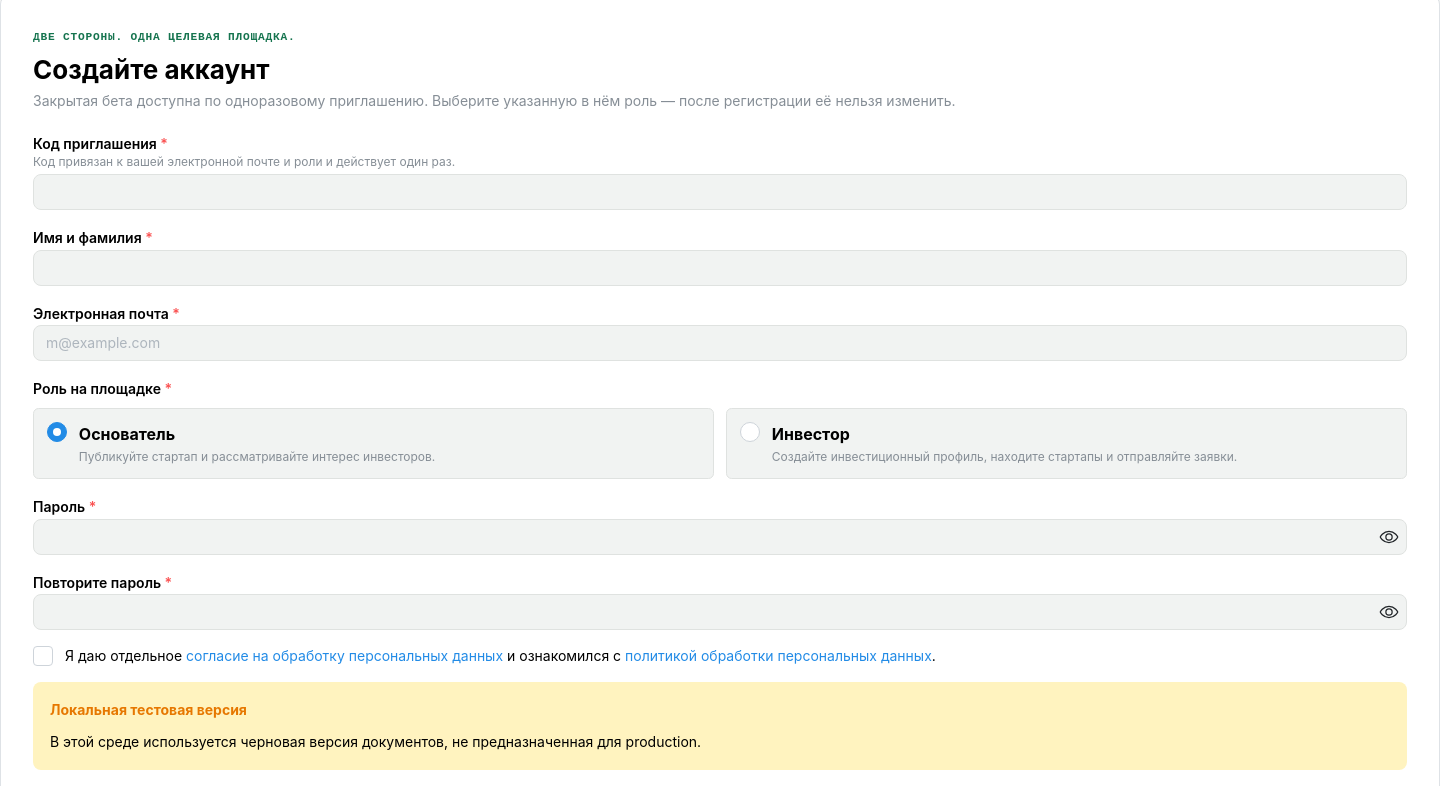
authentication forms › submits the selected marketplace role and exposes field errors
In the field labelled "Код приглашения": (720, 192) top-left (33, 174), bottom-right (1407, 210), type "AbCdEfGhIjKlMnOpQrStUvWxYz012345"
In the field labelled "Имя и фамилия": (720, 268) top-left (33, 250), bottom-right (1407, 286), type "Sam Investor"
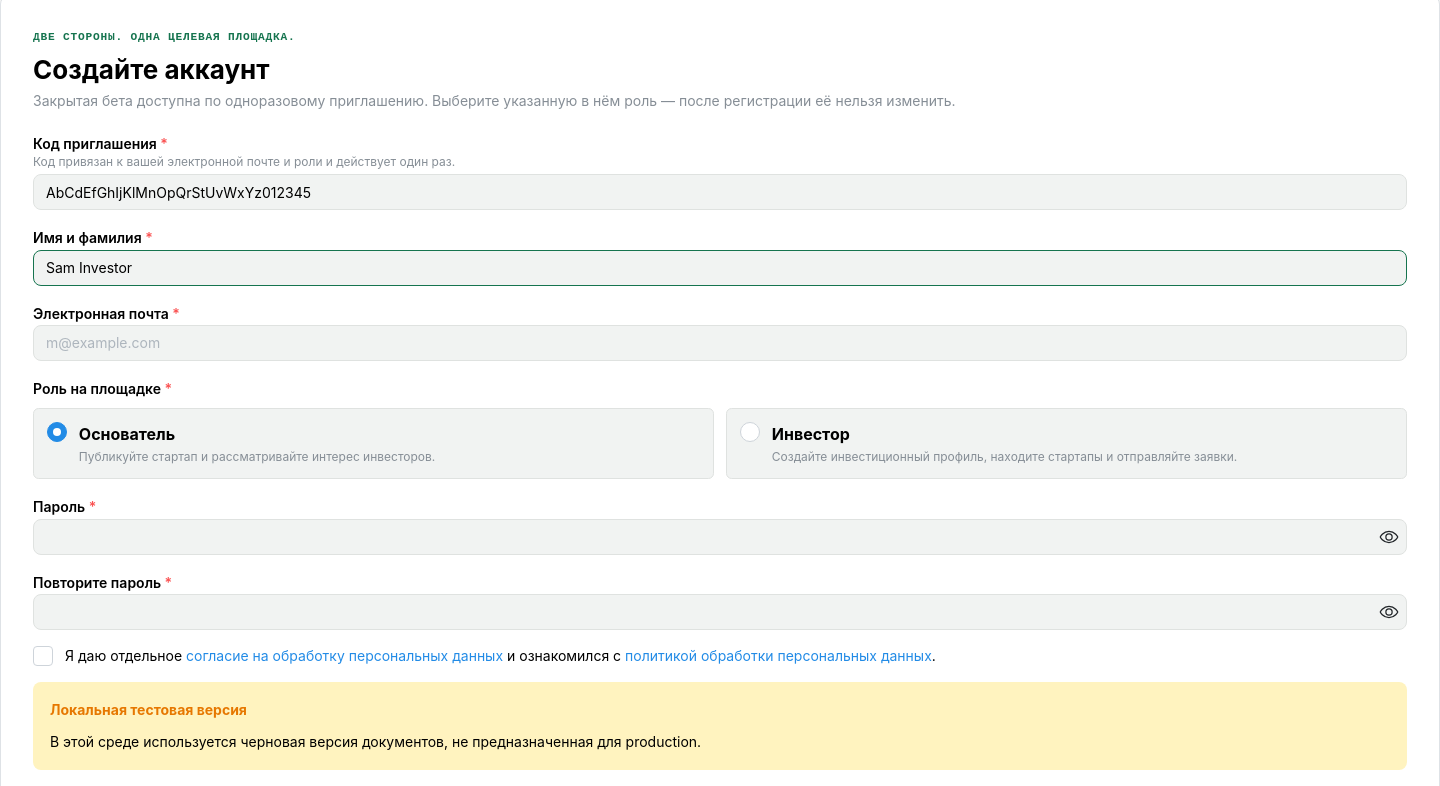
In the field labelled "Электронная почта": (720, 343) top-left (33, 325), bottom-right (1407, 361), type "investor@example.test"
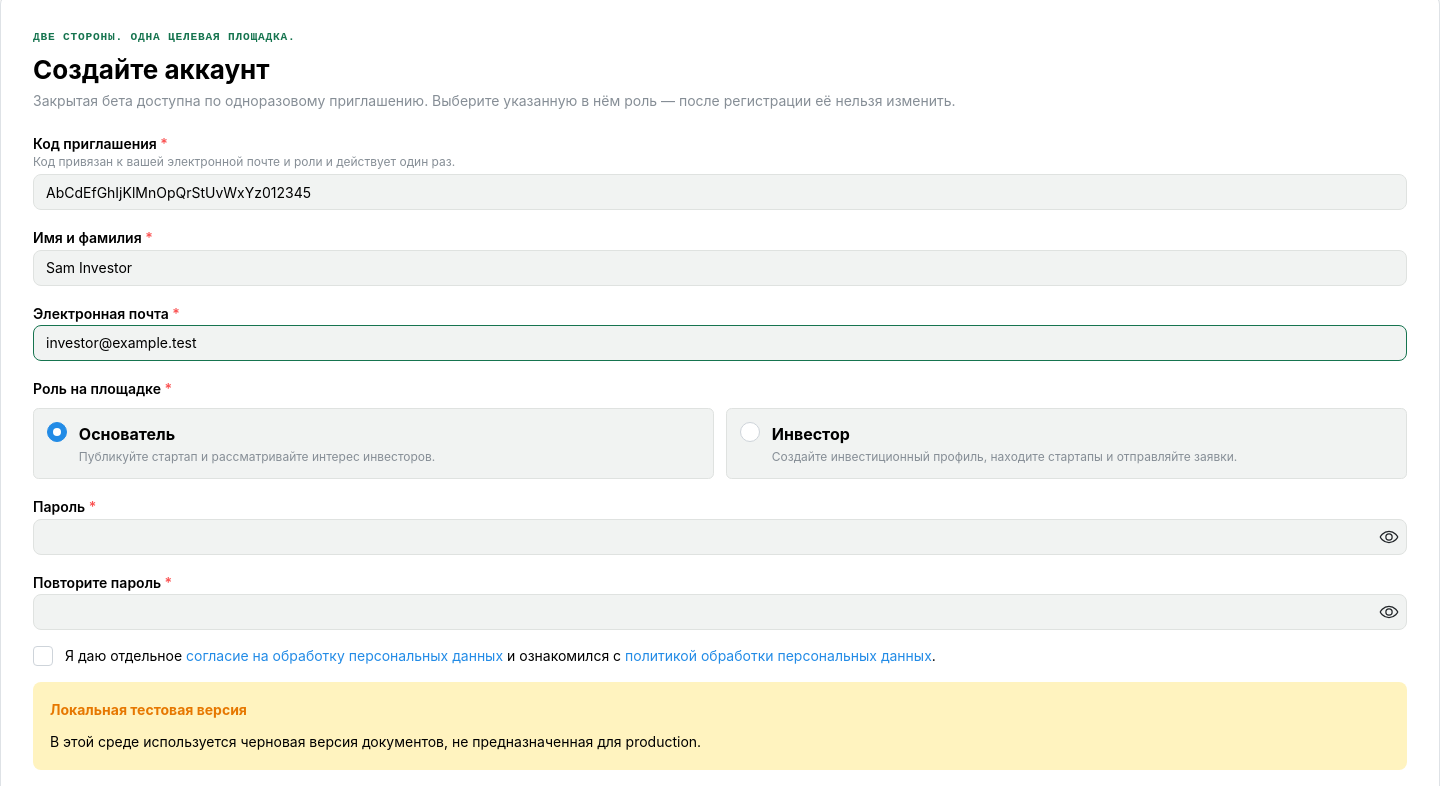
Click the radio button labelled "Инвестор": (750, 432) top-left (740, 422), bottom-right (760, 442)
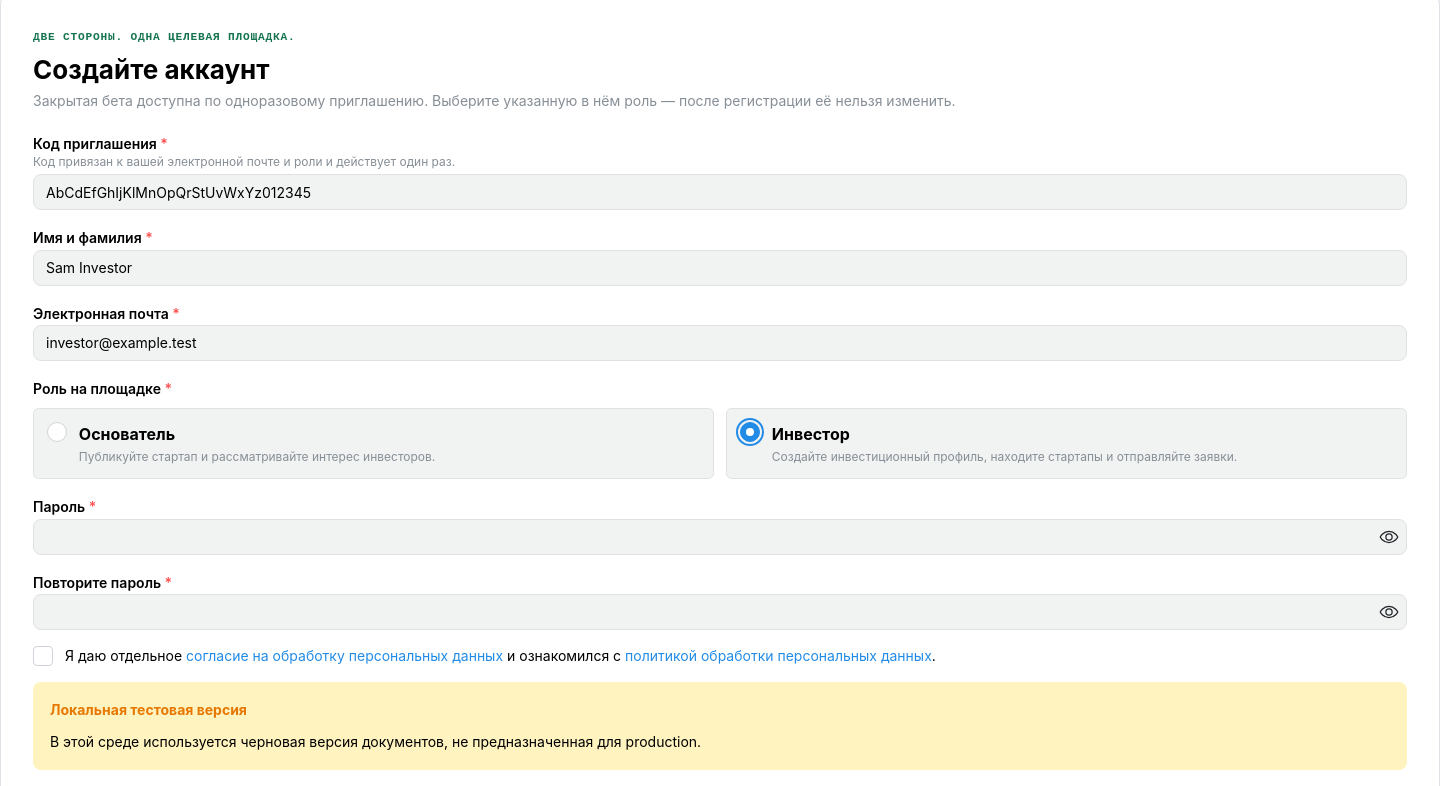
In the password field labelled "Пароль *": (720, 537) top-left (34, 520), bottom-right (1406, 554), type "investor-password"
In the password field labelled "Повторите пароль *": (720, 612) top-left (34, 595), bottom-right (1406, 629), type "different-password"
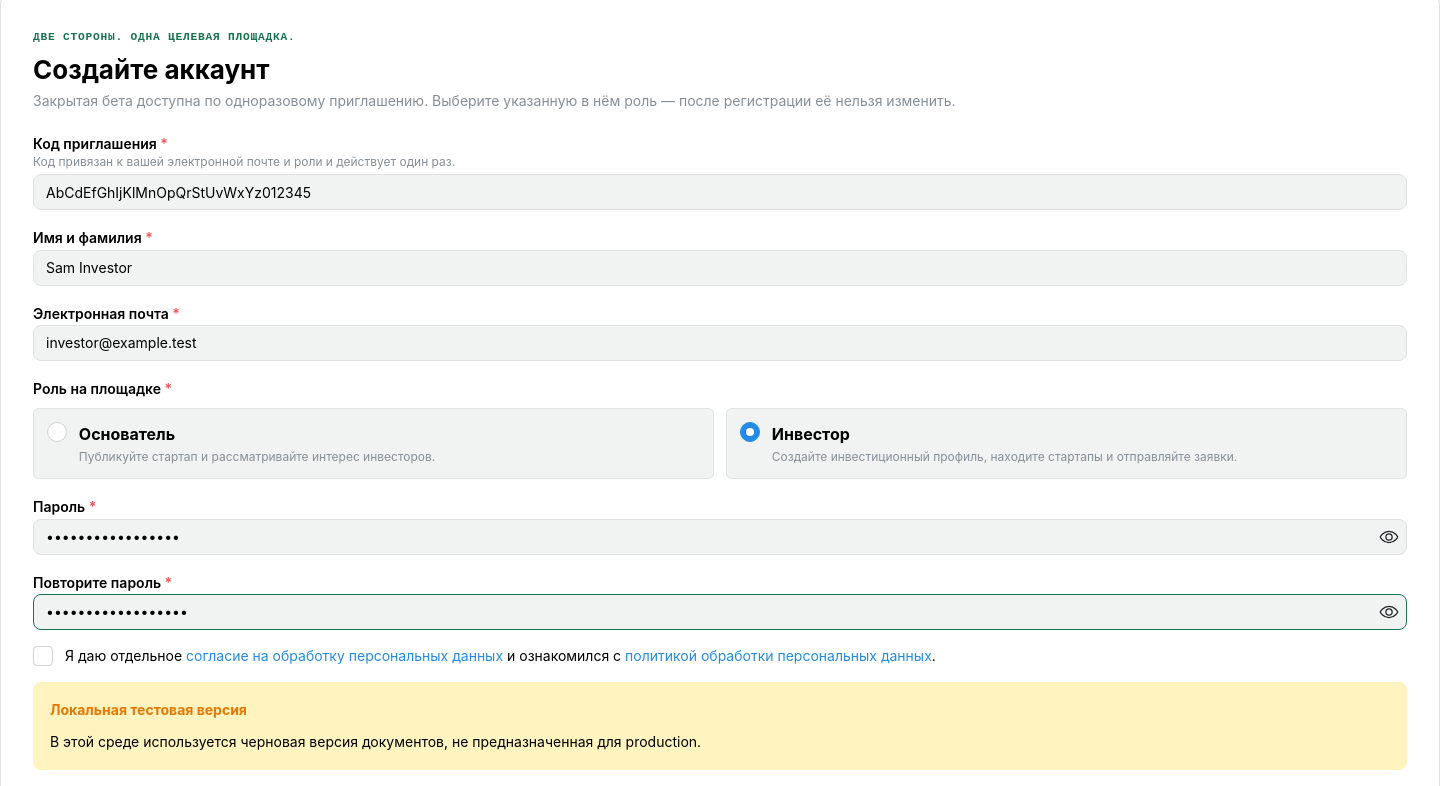
Click the checkbox labelled "Я даю отдельное согласие": (43, 656) top-left (33, 646), bottom-right (53, 666)
(page scrolled)
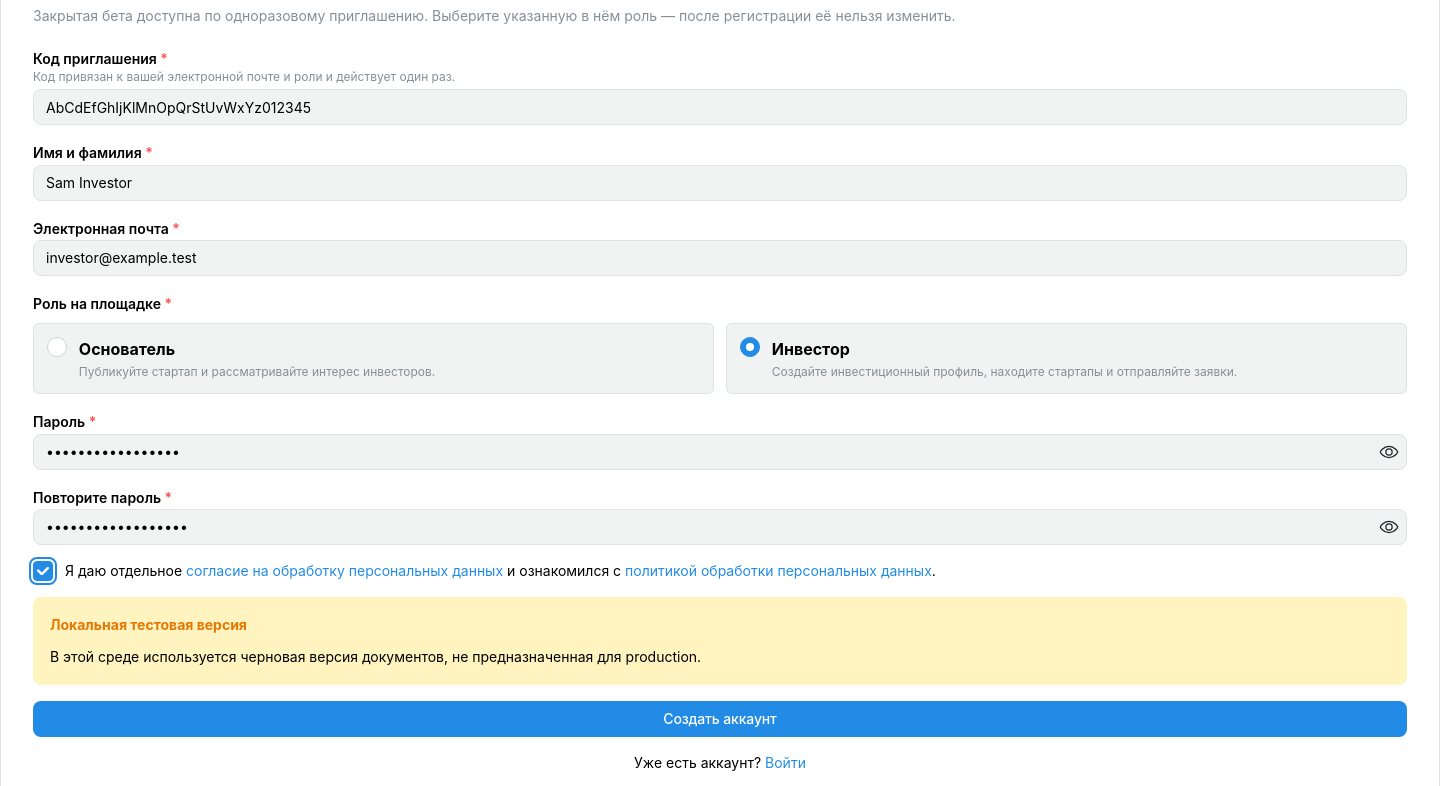
Click the button "Создать аккаунт": (720, 718) top-left (33, 700), bottom-right (1407, 736)
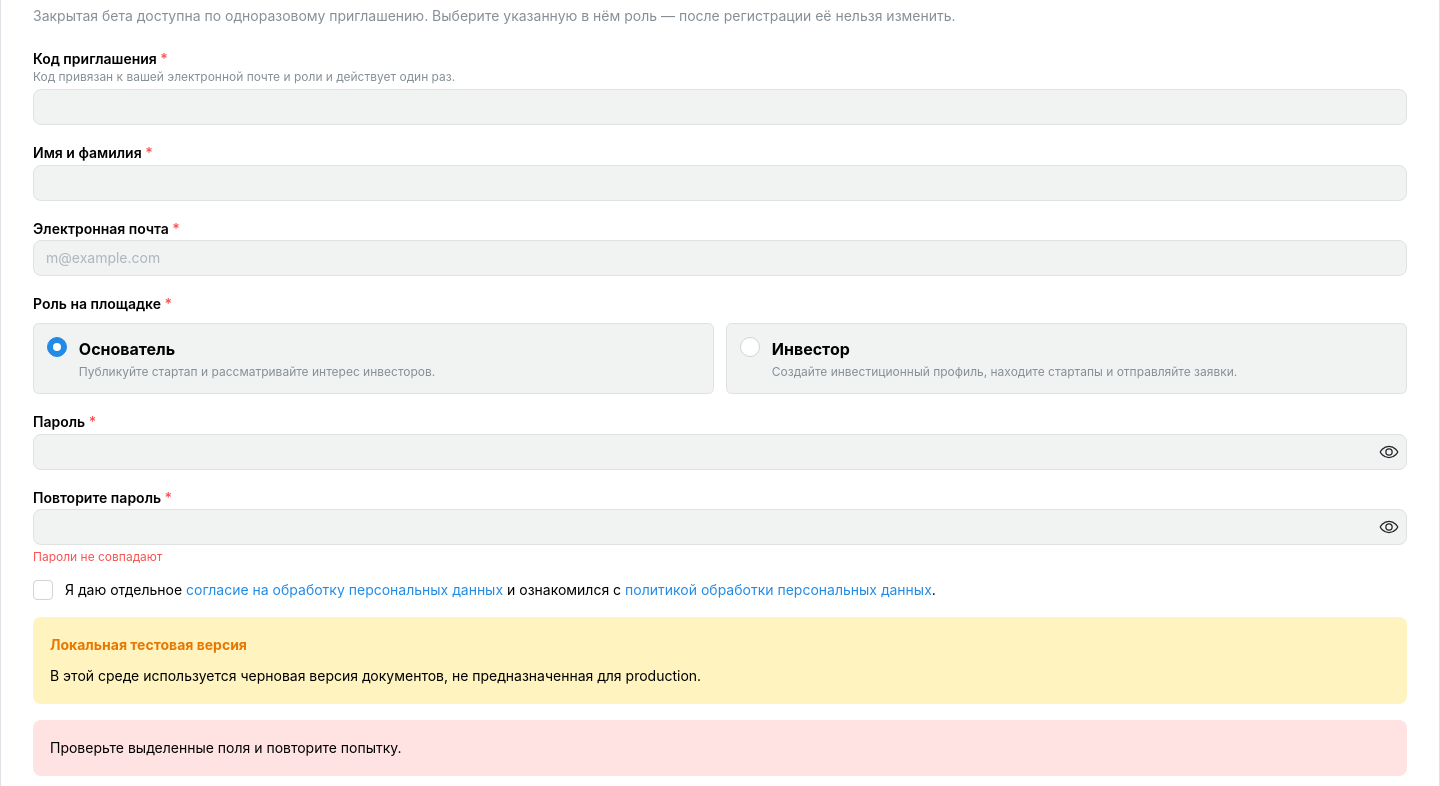
Expected: the message "Проверьте выделенные поля и повторите попытку." is shown, top-left (33, 720), bottom-right (1407, 776)
Expected: the text "Пароли не совпадают" is shown, top-left (33, 549), bottom-right (162, 564)
